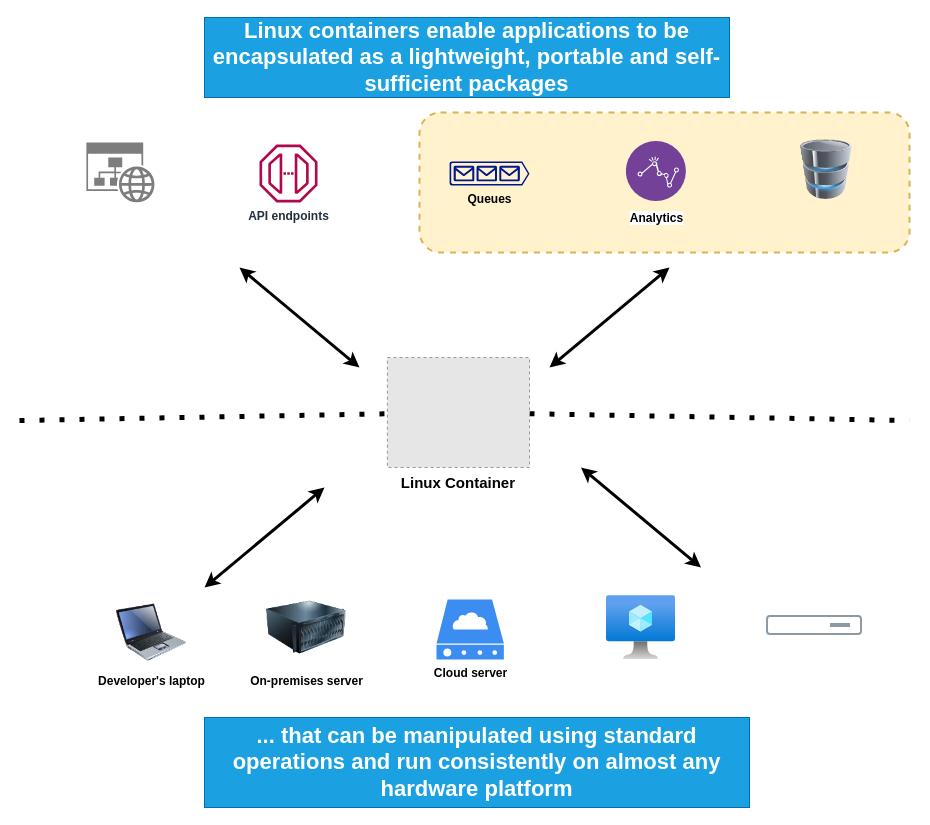
Image size: 930x825. Some labels were removed from this diagram. Grey dashed boxes stand in for pictures. Here are the shapes that lost their labels. From the top down, the centre of each, then its label:
At (x=120, y=172): "Website".
At (x=826, y=169): "Relational databases".
At (x=640, y=627): "Virtual machine".
At (x=814, y=625): "Bare-metal server".
